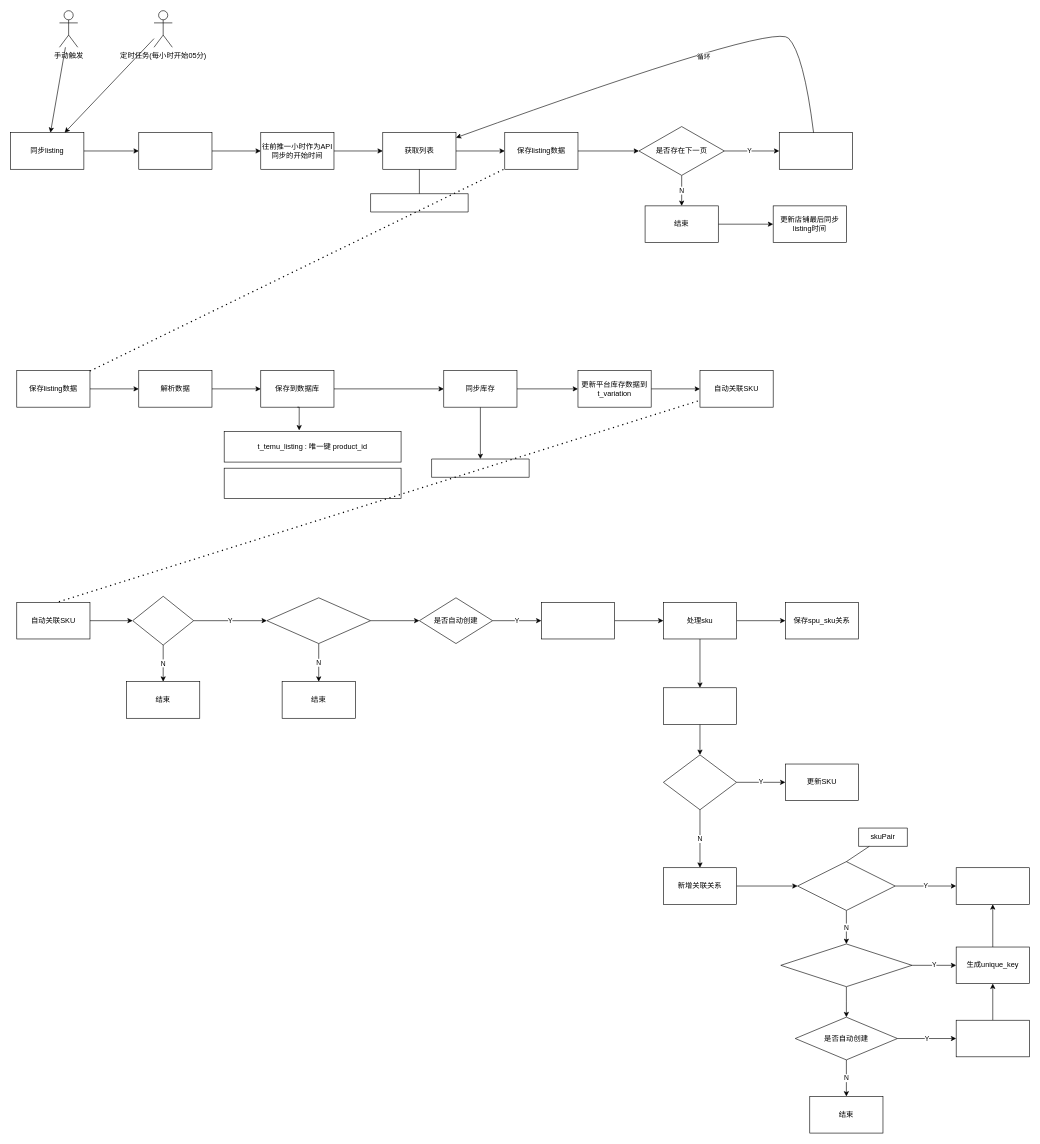
Some shapes in this 1040 by 1144 pixel diagram are drawn without their labels. The box of each missing label's shape, as (x1, y1, x2, y2) in pixels:
bg.goods.list.get: (370, 193, 468, 212)
bg.goods.quantity.get: (431, 458, 529, 477)
listing是否存在msku: (266, 597, 371, 644)
msku对应的sku是否已存在: (780, 943, 912, 987)
page++: (779, 132, 852, 169)
t_temu_variation ：唯一键 product_sku_id: (224, 468, 401, 499)
创建SKU: (956, 1020, 1029, 1057)
取上次最后更新时间: (138, 132, 212, 169)
新增sku_listing关联关系: (956, 867, 1029, 904)
是否存在 sku_pair: (797, 861, 895, 910)
是否存在关联关系: (663, 754, 737, 810)
是否自动关联: (132, 596, 194, 645)
查询sku_listing: (663, 687, 737, 724)
查询spu，不存在则创建: (541, 602, 615, 639)
